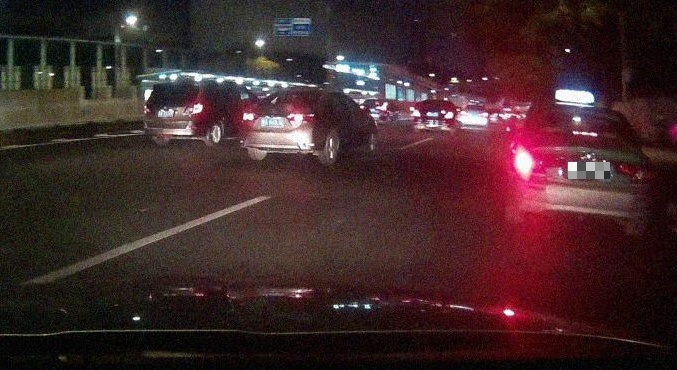L_light: (511, 150, 545, 172), (241, 111, 258, 122), (141, 105, 155, 115)
R_light: (618, 162, 656, 183), (289, 111, 317, 123), (187, 102, 209, 115)
T_light: (570, 129, 600, 138), (283, 90, 299, 95), (169, 83, 182, 87)
night-left: (510, 102, 657, 236)
night-no: (240, 88, 326, 165), (142, 81, 213, 146)
plate_1: (568, 162, 610, 179)
